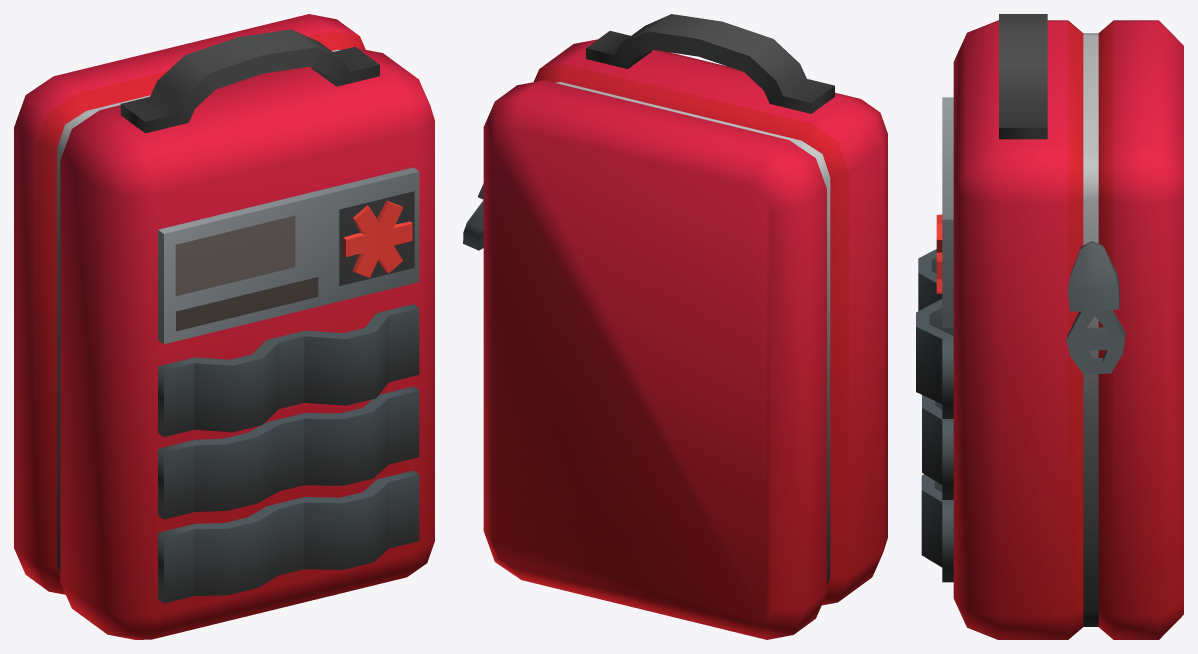
The model's file is First_Aid.fbx.
3 views of the same model, side by side, from view 1: azimuth 30°, elevation 25°; view 2: azimuth 150°, elevation 25°; view 3: azimuth 270°, elevation 25° (orthographic). The views are drawn at different scales.
Parts seen in each view (by area): view 1: First_Aid; view 2: First_Aid; view 3: First_Aid.
Boxes of the visible parts, bbox=[...] form: First_Aid: bbox=[14, 14, 434, 639]; First_Aid: bbox=[463, 14, 887, 639]; First_Aid: bbox=[916, 14, 1183, 639].
Bounding box in the file's own units: 19.71 × 12.25 × 27.41.
